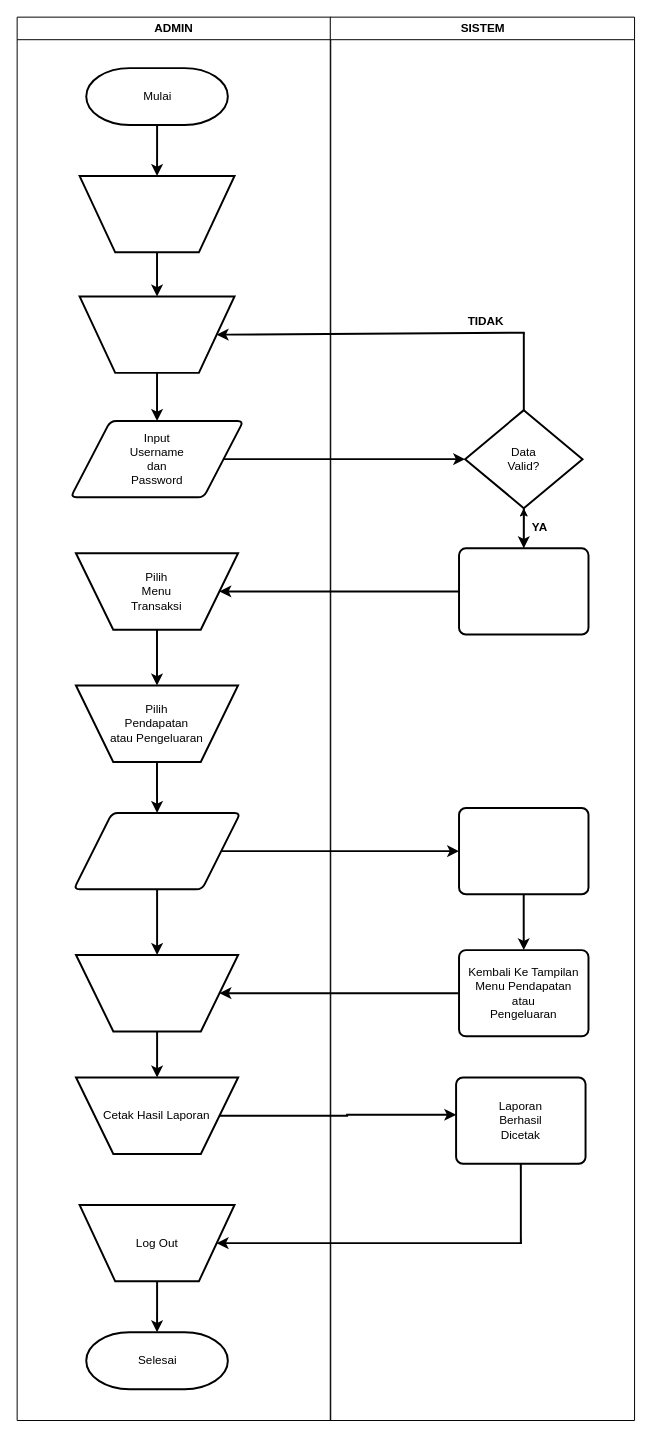
Some shapes in this 652 by 1438 pixel diagram are drawn without their labels. Each missing label, with the centre of its shape:
"Data Berhasil Ditambahkan" belongs at (x=523, y=851).
"Login" belongs at (x=156, y=334).
"Masukan Pendapatan atau pengeluaran" belongs at (x=156, y=850).
"Membuka Aplikasi" belongs at (x=156, y=213).
"Menampilkan Halaman Dashboard Admin" belongs at (x=523, y=591).
"Pilih Menu Laporan" belongs at (x=157, y=993).
